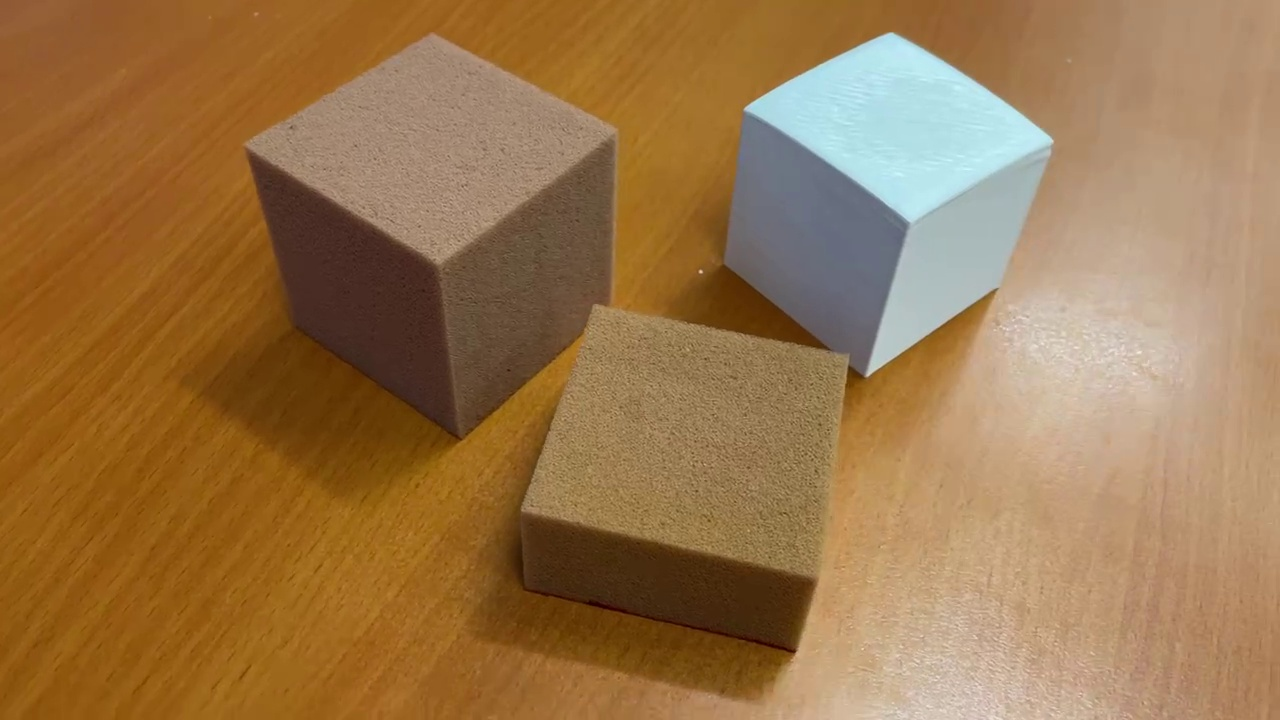Cube: (240, 30, 621, 445), (715, 21, 1058, 390)
Cube_short: (499, 297, 853, 659)
